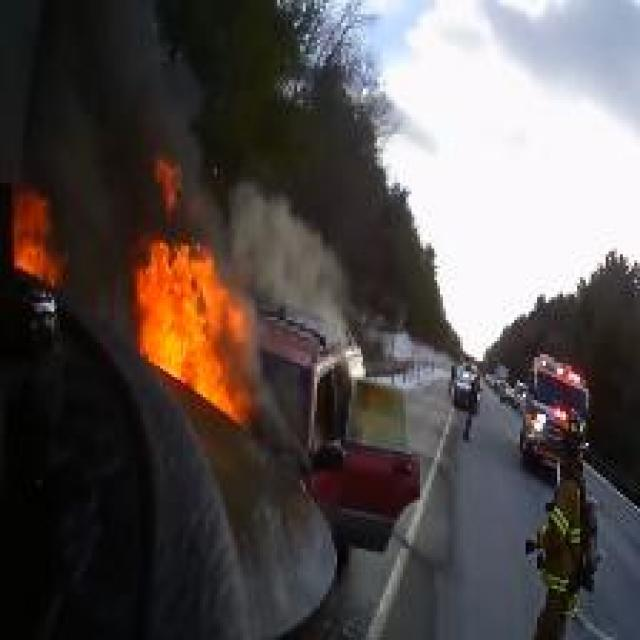Fire: (134, 246, 260, 437), (12, 190, 68, 287)
